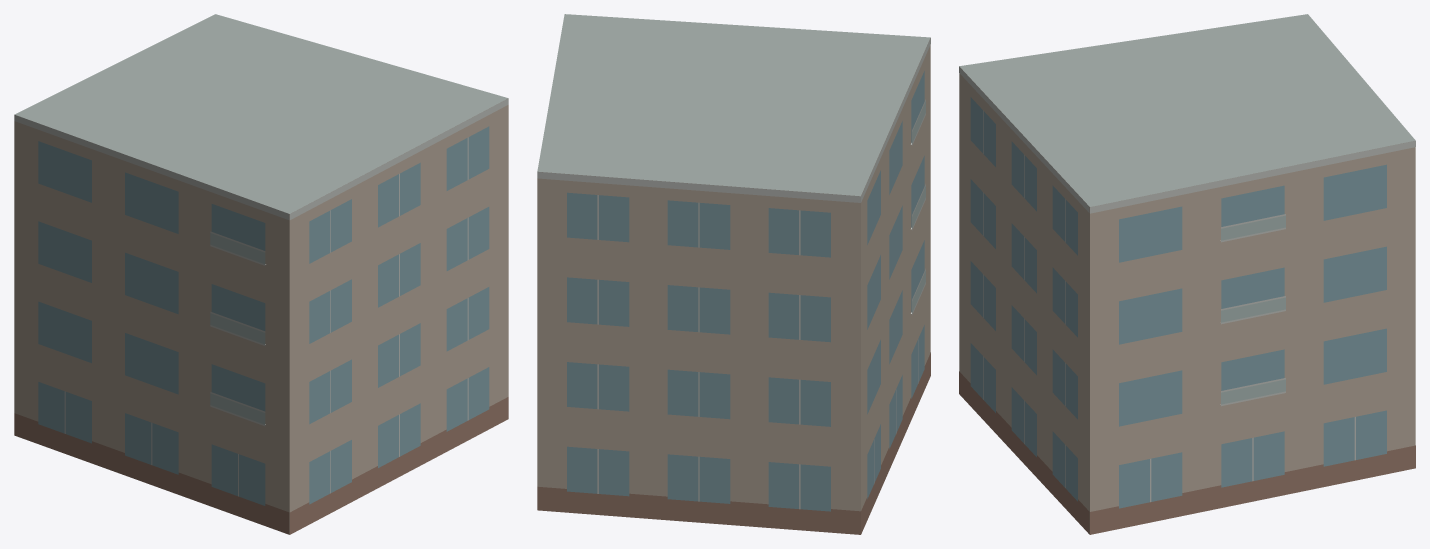
File: survey-upis-32861377.glb
3 views of the same model, side by side, from view 1: azimuth 30°, elevation 25°; view 2: azimuth 150°, elevation 25°; view 3: azimuth 270°, elevation 25° (orthographic). The views are drawn at different scales.
Parts seen in each view (by area): view 1: survey-upis-32861377.tmp; view 2: survey-upis-32861377.tmp; view 3: survey-upis-32861377.tmp.
Part boxes in pixels (left/top/right/bottom): survey-upis-32861377.tmp: left=14, top=14, right=508, bottom=534; survey-upis-32861377.tmp: left=537, top=14, right=930, bottom=534; survey-upis-32861377.tmp: left=959, top=14, right=1415, bottom=534.
Size of the model in its own units: 15.43 by 12.2 by 15.42.
